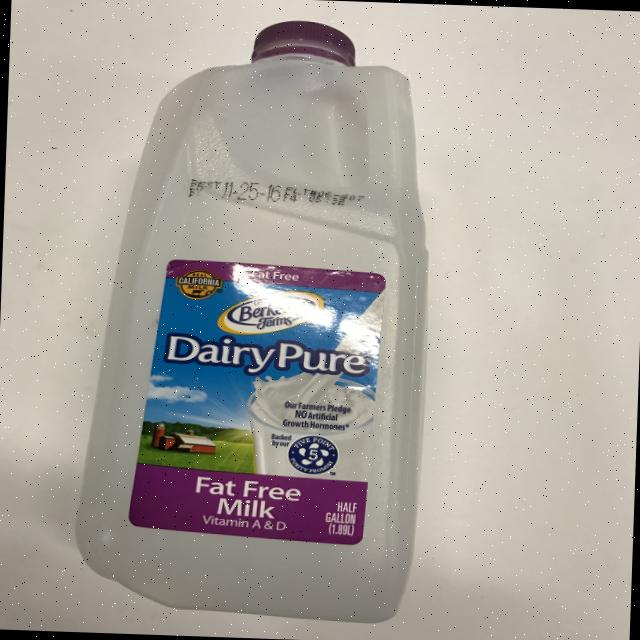plastic: (71, 13, 437, 625)
